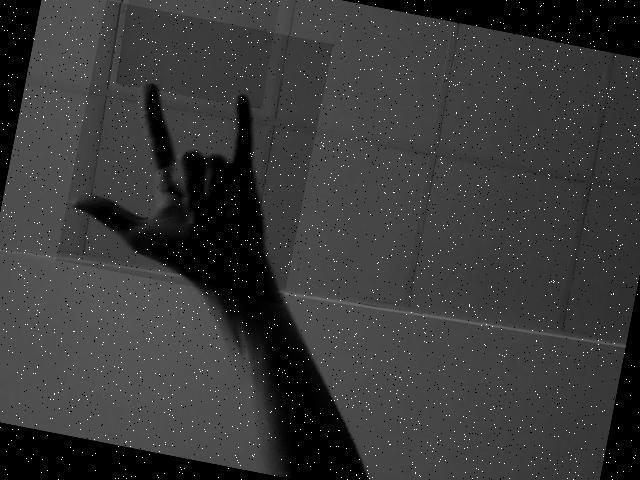I_Love_You: (70, 28, 289, 281)
